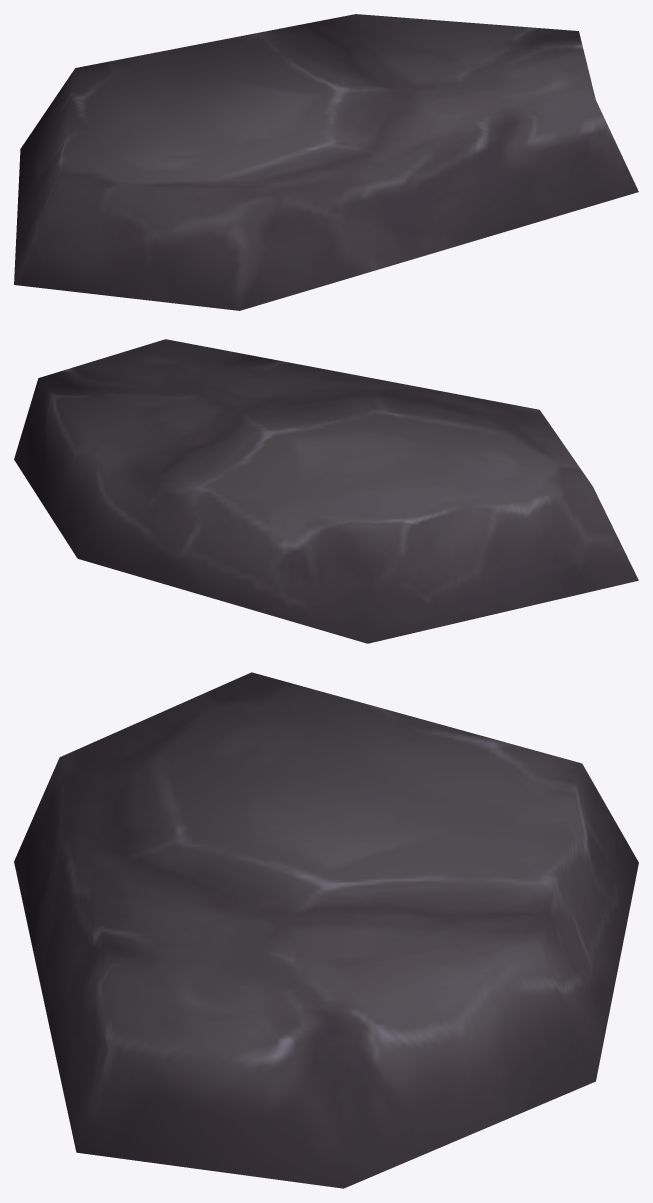
Rendered from yw_shanlin_stones_027.FBX.
3 views of the same model, one above another, from view 1: azimuth 30°, elevation 25°; view 2: azimuth 150°, elevation 25°; view 3: azimuth 270°, elevation 25° (orthographic). The views are drawn at different scales.
Visible parts, largest first — view 1: yw_shanlin_stones_027; view 2: yw_shanlin_stones_027; view 3: yw_shanlin_stones_027.
Part boxes in pixels (x1=…): yw_shanlin_stones_027: x1=14, y1=14, x2=638, y2=310; yw_shanlin_stones_027: x1=14, y1=339, x2=638, y2=643; yw_shanlin_stones_027: x1=14, y1=672, x2=638, y2=1188.
Bounding box in the file's own units: 117 × 15.84 × 72.79.
